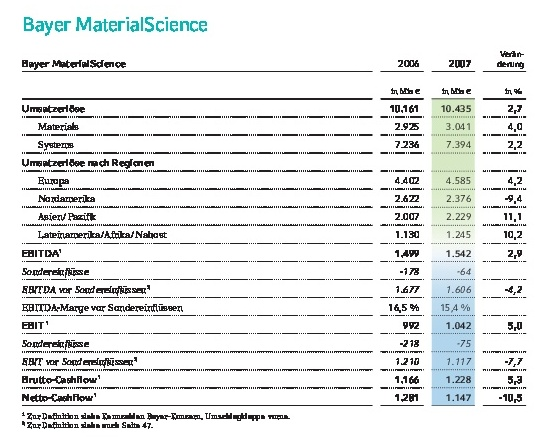table: (0, 0, 539, 440)
